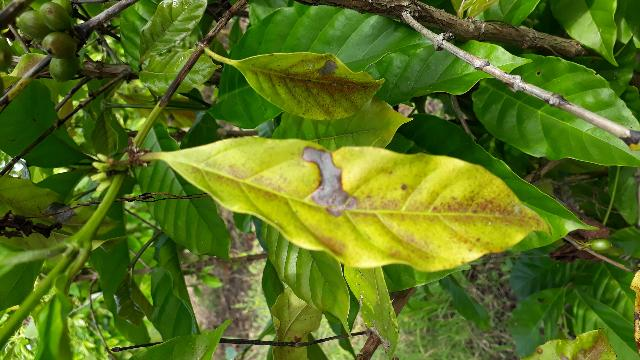red_spider_mite: (163, 138, 551, 273)
